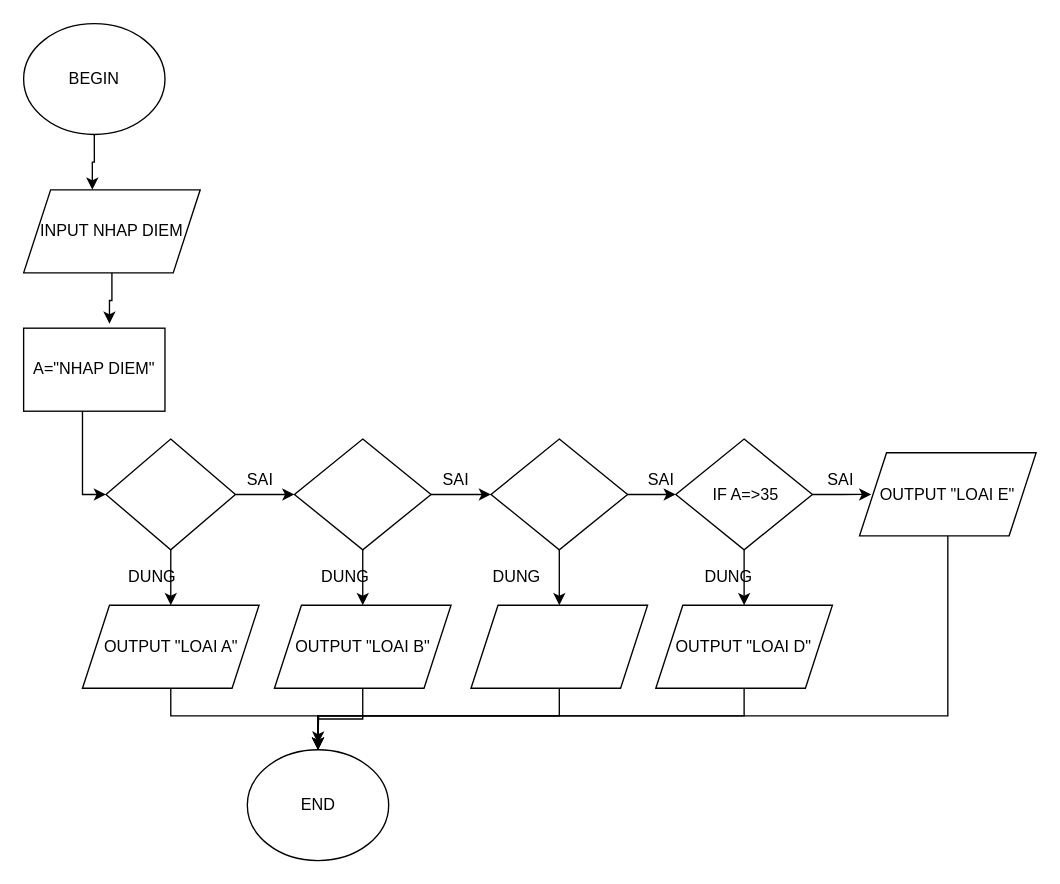
Some shapes in this 1060 by 884 pixel diagram are drawn without their labels. Here are the shapes that lost their labels. From the top down, the box of each, then its label:
(105, 438, 235, 550): IF A=>75
(293, 438, 431, 550): IF A=>60
(490, 438, 628, 550): IF A=>45
(470, 604, 648, 688): OUTPUT "LOAI C"
